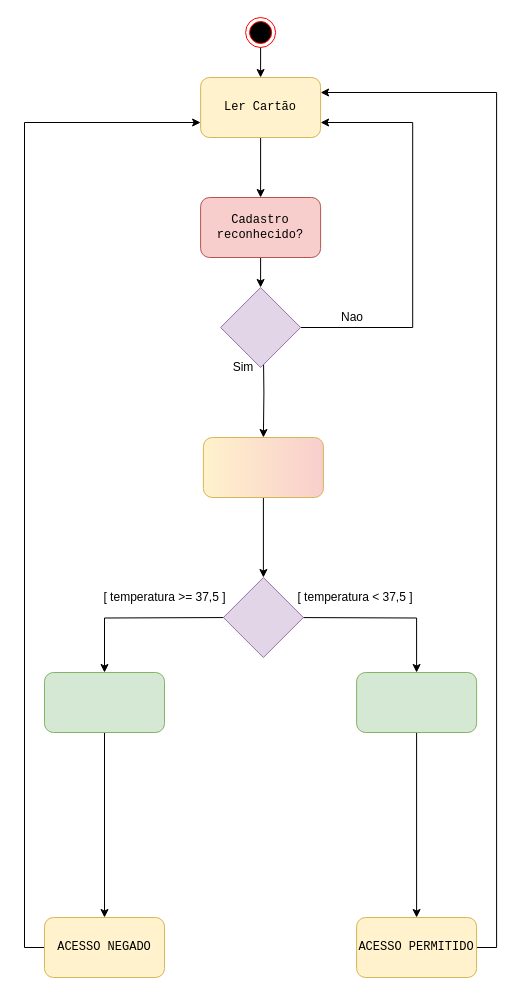
Some shapes in this 523 by 995 pixel diagram are drawn without their labels. Here are the shapes that lost their labels. From the top down, the box of each, then its label:
(202, 436, 323, 498): Medir Temperatura
(44, 672, 164, 732): (FEBRE) TEMPERATURA ALTA
(356, 672, 477, 732): SEJA BEM VINDO
